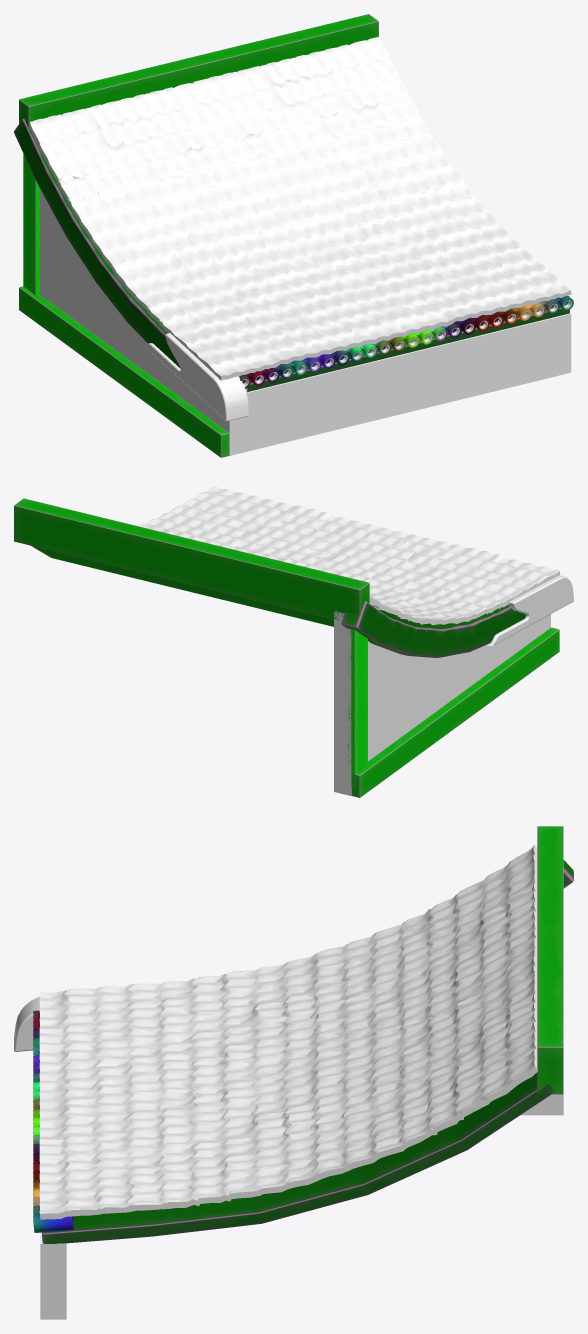
File: roof_side_400x400_01_left.fbx
3 views of the same model, one above another, from view 1: azimuth 30°, elevation 25°; view 2: azimuth 150°, elevation 25°; view 3: azimuth 270°, elevation 25° (orthographic). The views are drawn at different scales.
Parts seen in each view (by area): view 1: roof_side_400x400_01_left; view 2: roof_side_400x400_01_left; view 3: roof_side_400x400_01_left.
Part boxes in pixels (x1=…): roof_side_400x400_01_left: x1=14, y1=14, x2=573, y2=457; roof_side_400x400_01_left: x1=14, y1=486, x2=573, y2=797; roof_side_400x400_01_left: x1=14, y1=826, x2=573, y2=1319.
Size of the model in its own units: 4.06 by 2.3 by 4.28.
